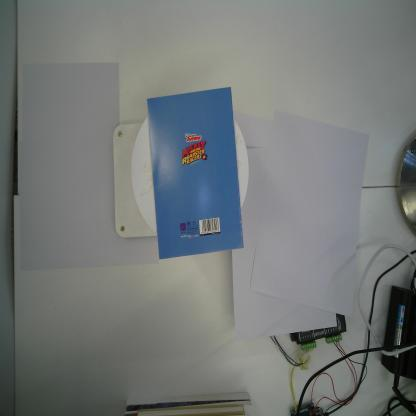Stationery: (146, 86, 244, 260)
